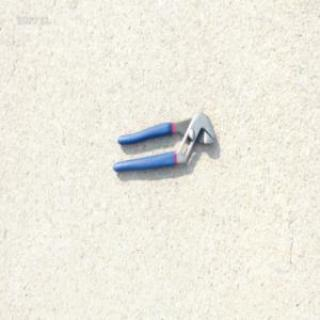Pliertrack_idkeyframe: (110, 111, 216, 173)
